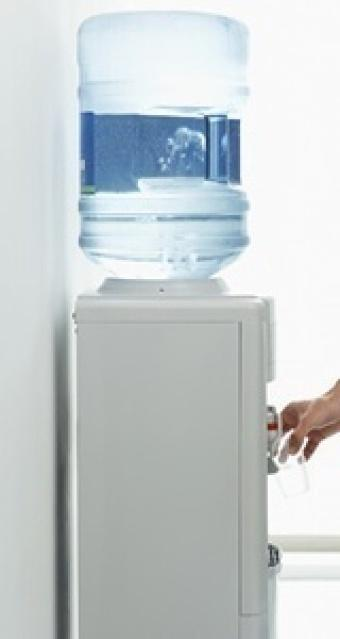Dispenser: (72, 11, 284, 638)
